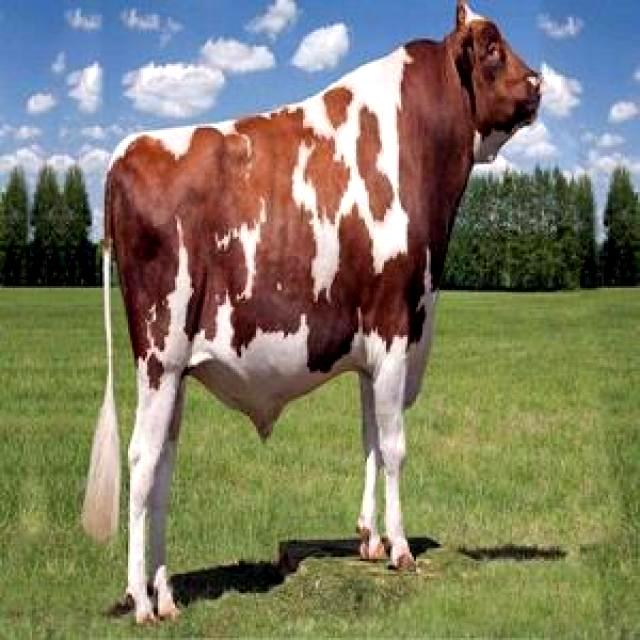COW: (82, 0, 540, 622)
